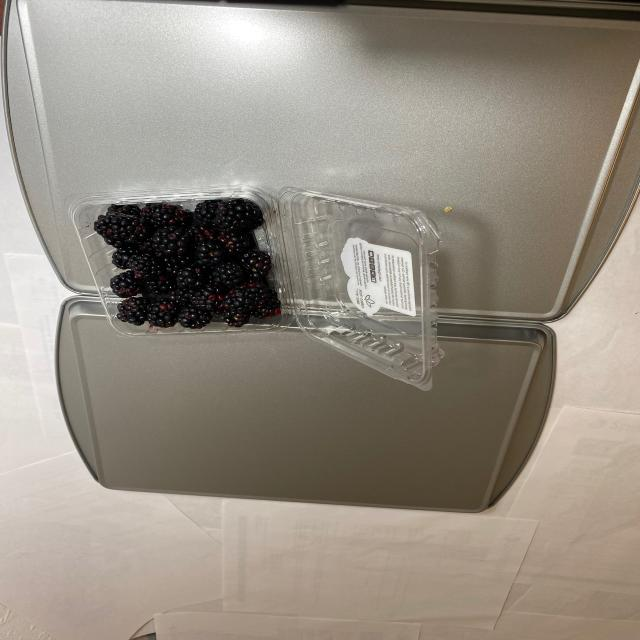blackberries: (106, 198, 270, 332)
